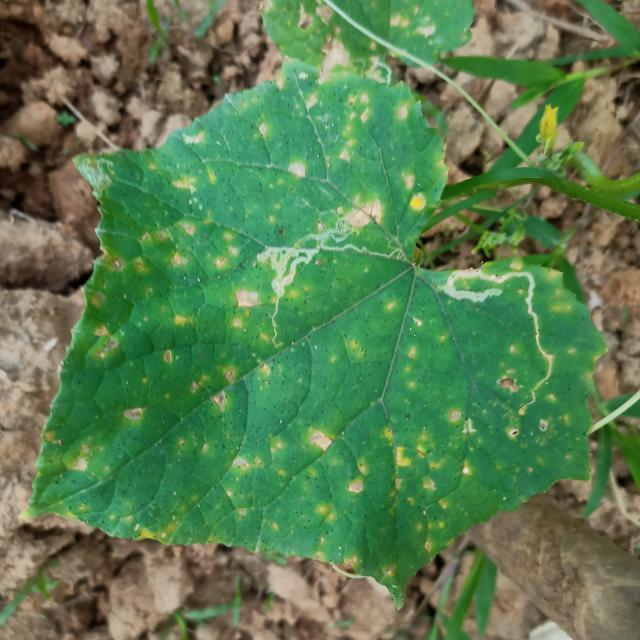disease_cucumber: (58, 77, 584, 570)
